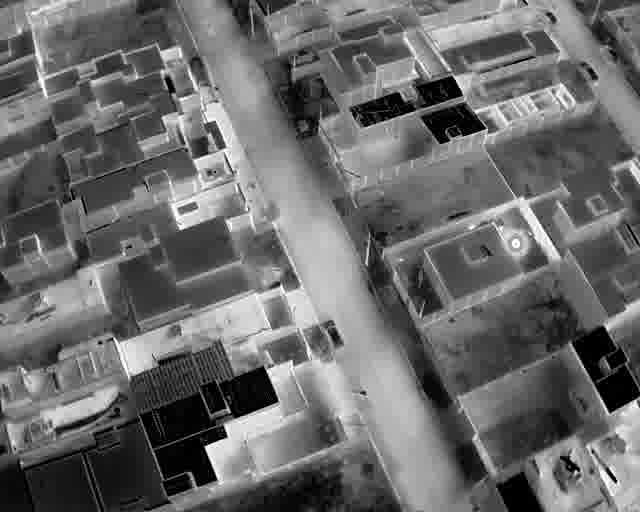car: (322, 319, 345, 349), (579, 58, 600, 85), (600, 43, 620, 67), (287, 49, 313, 65), (541, 9, 559, 25)
motorcycle: (349, 389, 367, 397)
